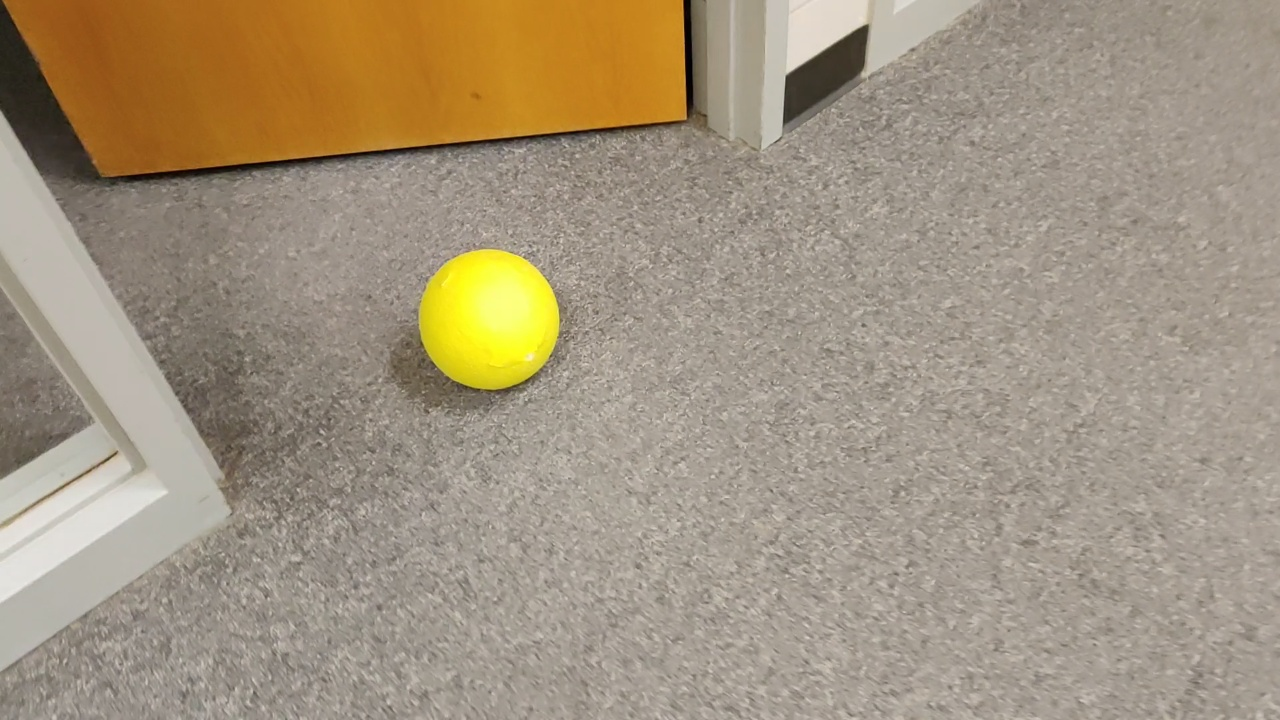Ball: (419, 245, 555, 395)
